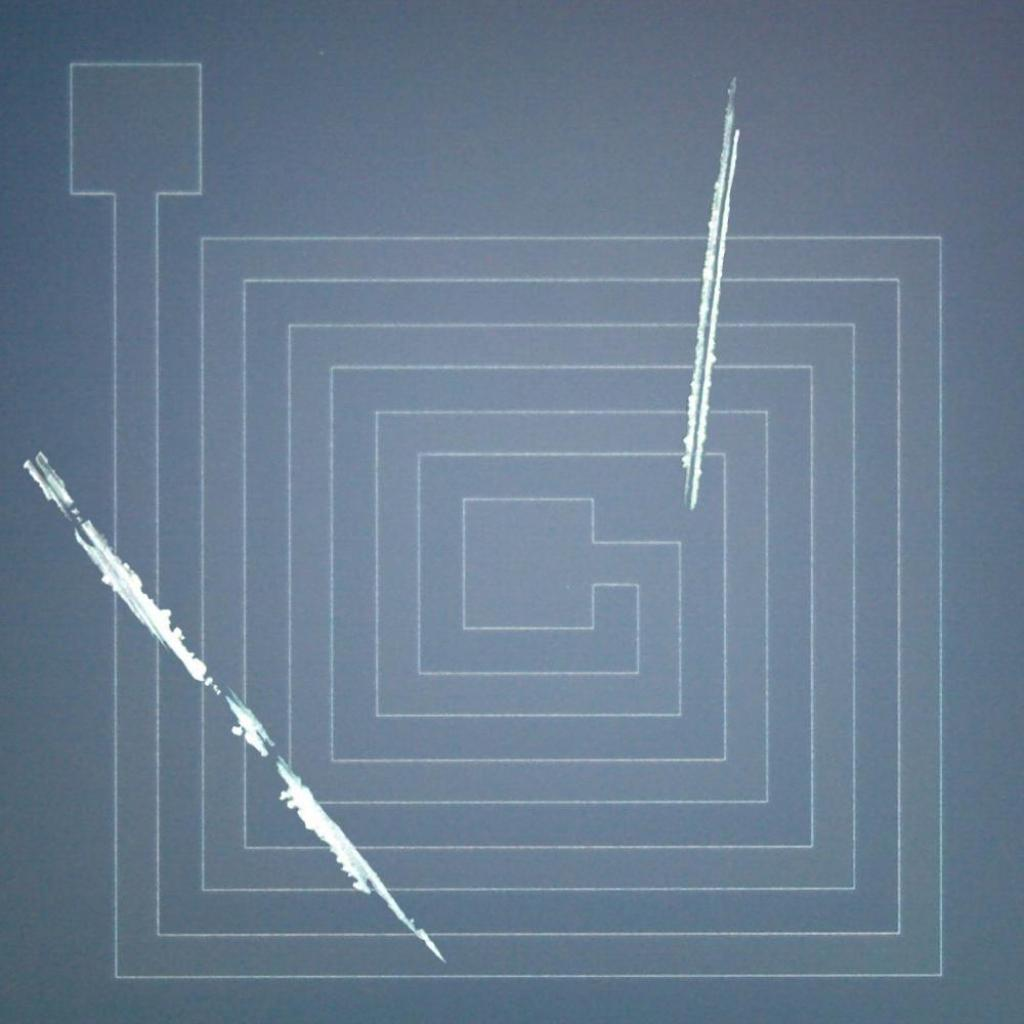scratch: (10, 442, 458, 974), (669, 66, 763, 518)
